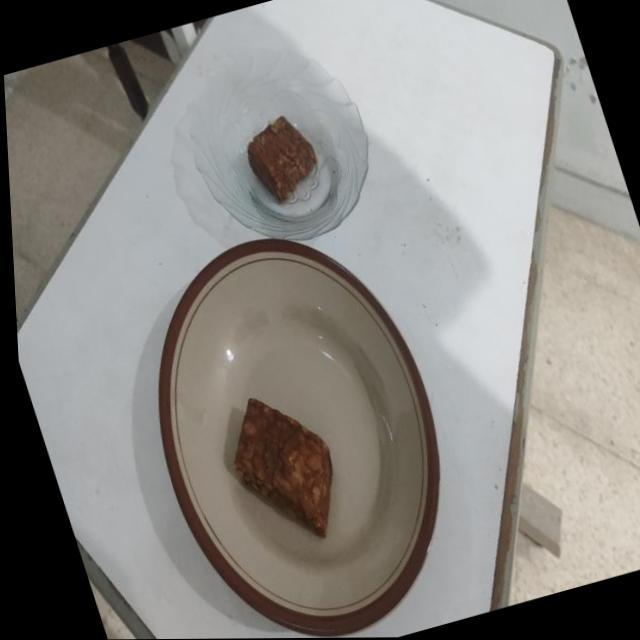tempe_goreng: (234, 398, 332, 536), (248, 116, 318, 202)
